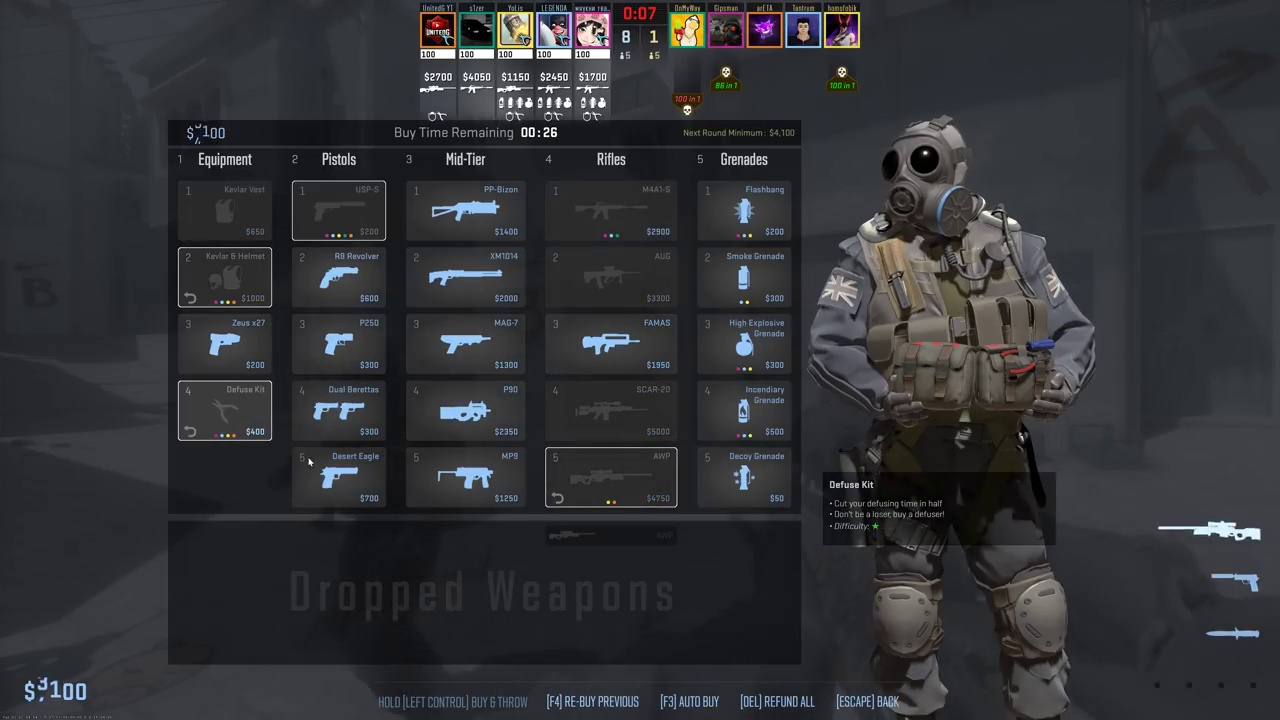CT: (849, 120, 1075, 717)
